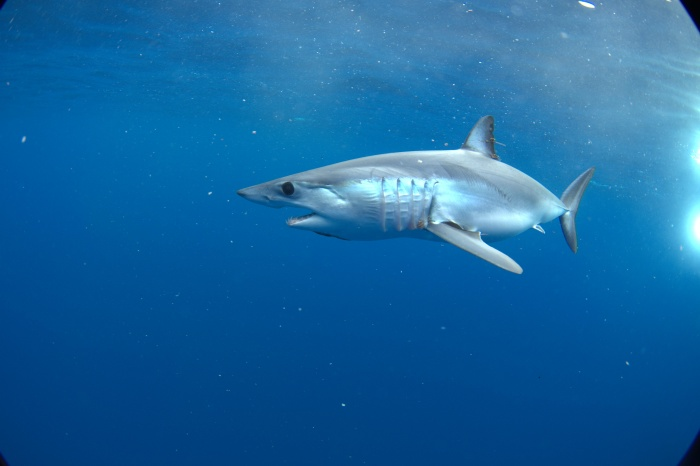Mako: (225, 99, 604, 287)
